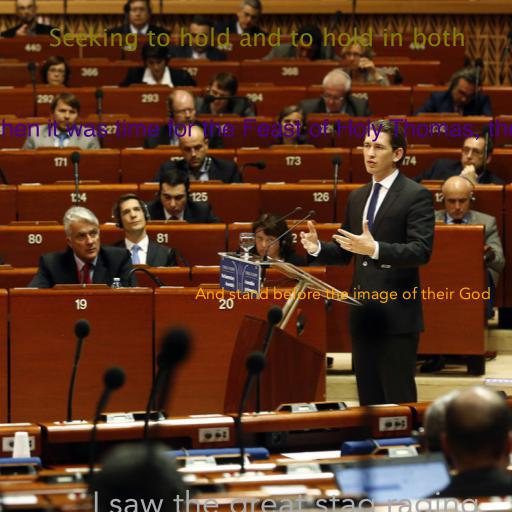Avenir: (92, 489, 480, 512), (195, 286, 491, 303)
Lucida Grande: (48, 27, 466, 51)
SF Pro: (0, 119, 512, 142)
